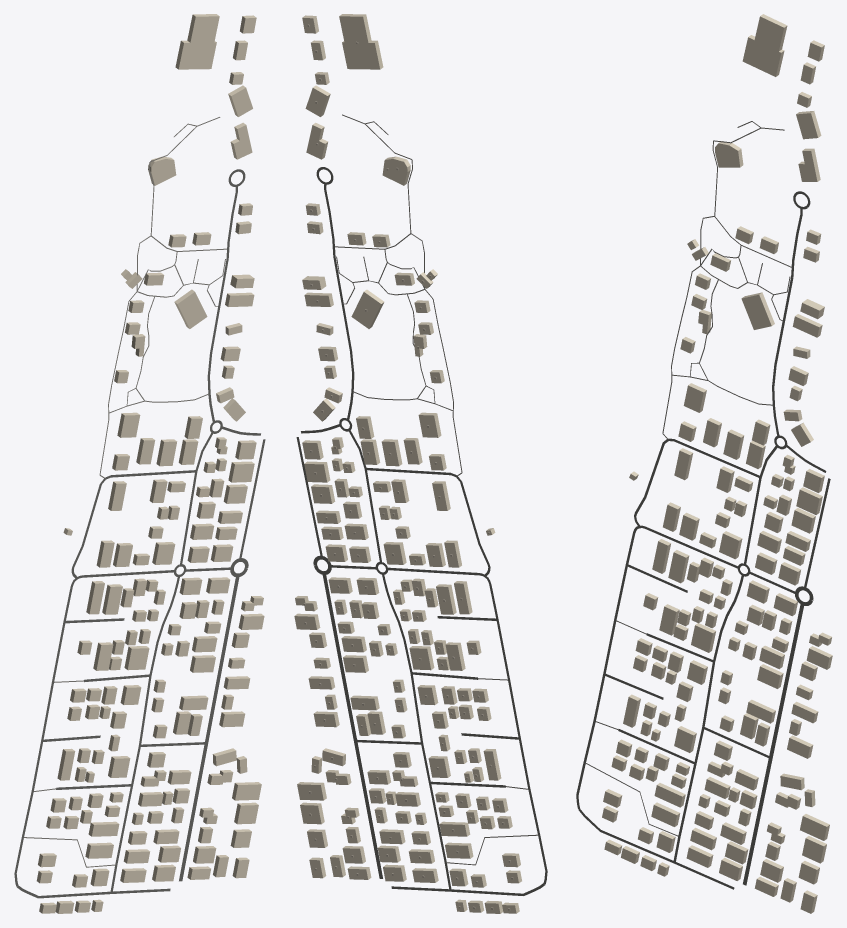
Rendered from historic-palestine-09_36_3508_3300.glb.
The picture shows the model from 3 angles, left to right: view 1: azimuth 30°, elevation 25°; view 2: azimuth 150°, elevation 25°; view 3: azimuth 330°, elevation 25°; orthographic projection.
Parts seen in each view (by area): view 1: Building_.047, Road בלפור, Road נחום סוקולוב.001, Road הטיילת, Building_.002, Building_.003, Building_.048, Building_.115; view 2: Building_.047, Road בלפור, Road נחום סוקולוב.001, Road הטיילת, Building_.002, Building_.003, Building_.048; view 3: Building_.047, Road בלפור, Road נחום סוקולוב.001, Road הטיילת, Building_.002, Building_.003, Building_.048, Building_.049, Building_.115, Building_.008.
Boxes of the visible parts, box(x1,y1,x2,y2) form: Building_.047: box(175, 14, 219, 69); Road בלפור: box(179, 575, 239, 881); Road נחום סוקולוב.001: box(110, 576, 179, 892); Road הטיילת: box(14, 578, 77, 886); Building_.002: box(174, 289, 207, 328); Building_.003: box(148, 156, 176, 185); Building_.048: box(230, 122, 252, 159); Building_.115: box(124, 646, 149, 670); Building_.047: box(339, 14, 383, 69); Road בלפור: box(322, 575, 382, 878); Road נחום סוקולוב.001: box(382, 573, 451, 890); Road הטיילת: box(484, 575, 547, 884); Building_.002: box(351, 289, 384, 328); Building_.003: box(382, 156, 410, 185); Building_.048: box(306, 122, 327, 159); Building_.047: box(742, 14, 787, 76); Road בלפור: box(743, 604, 804, 885); Road נחום סוקולוב.001: box(673, 576, 743, 861); Road הטיילת: box(576, 526, 639, 809); Building_.002: box(741, 292, 774, 329); Building_.003: box(715, 141, 743, 167); Building_.048: box(798, 148, 820, 181); Building_.049: box(796, 111, 821, 139); Building_.115: box(691, 623, 715, 652); Building_.008: box(800, 814, 829, 840).
Bounding box in the file's own units: 343 × 1139 × 13.6.
